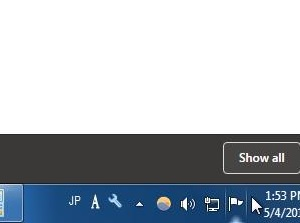cursor: (250, 196, 263, 215)
